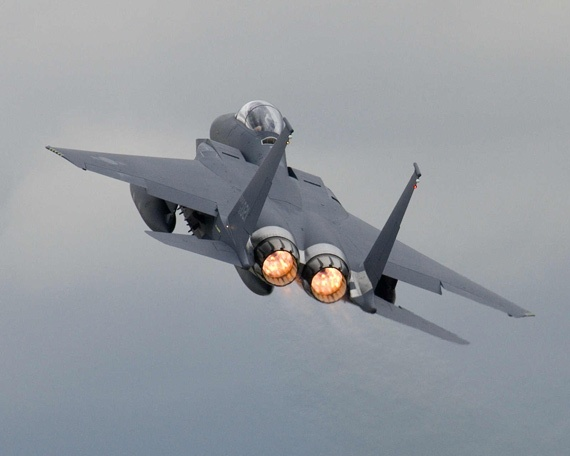airplane: (35, 96, 538, 352)
